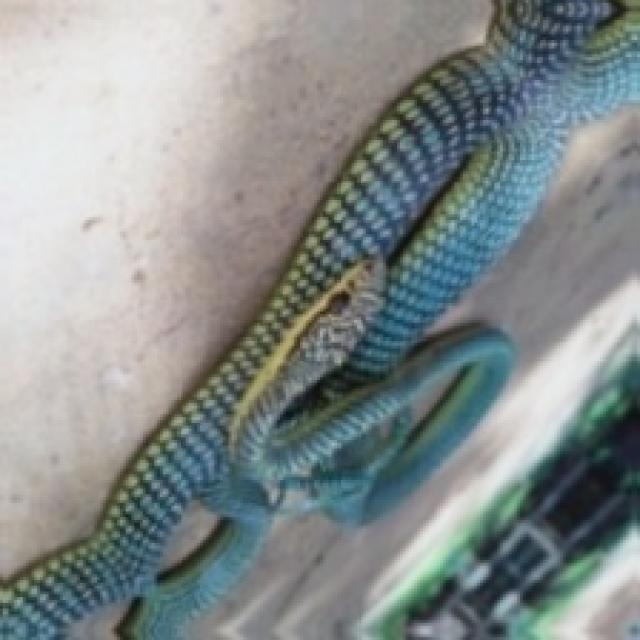paradise tree snake: (3, 0, 606, 637), (3, 0, 303, 569)
